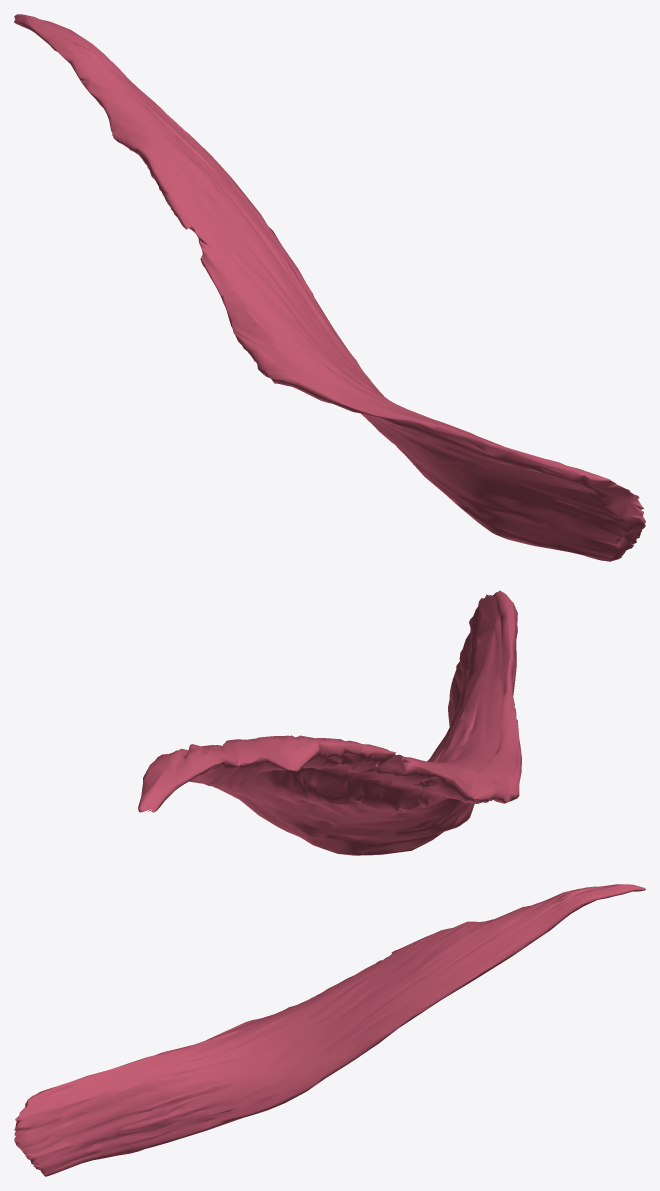
3 views of the same model, one above another, from view 1: azimuth 30°, elevation 25°; view 2: azimuth 150°, elevation 25°; view 3: azimuth 270°, elevation 25° (orthographic). The views are drawn at different scales.
Visible parts, largest first — view 1: 左侧头夹肌; view 2: 左侧头夹肌; view 3: 左侧头夹肌.
Boxes of the visible parts, x1,y1,x2,y2 form: 左侧头夹肌: (14,14,645,561); 左侧头夹肌: (138,590,521,855); 左侧头夹肌: (14,884,645,1176).
Size of the model in its own units: 0.0904 by 0.1242 by 0.3177.
